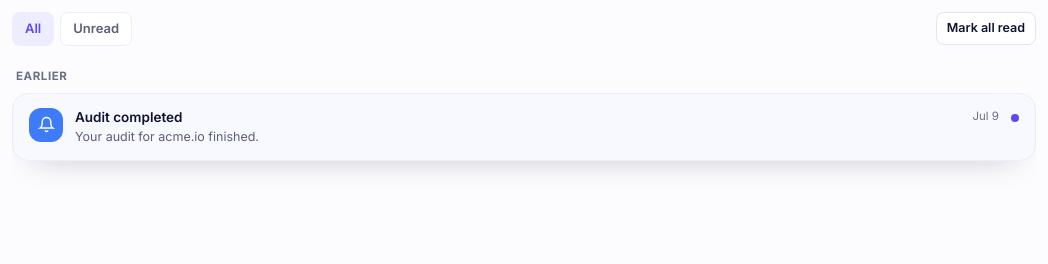
Test: NotificationsPage › filters to unread (empty) when the Unread tab is selected
Expected: the text "Audit completed" is shown, [75,109,182,125]
Click the button "Unread".
click(96, 29)  # box [60,12,132,46]
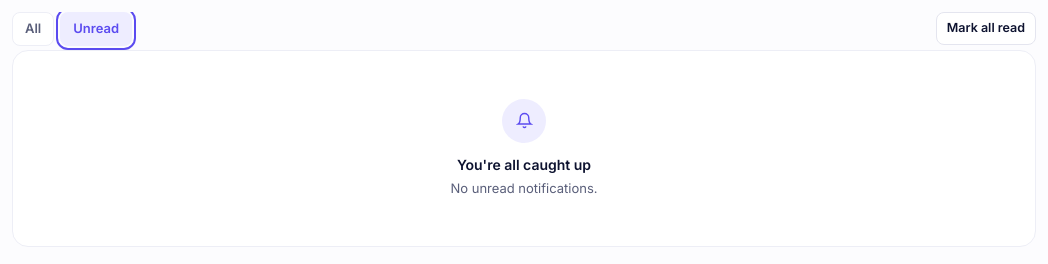
Now the text "No unread notifications." is shown, box [450,180,598,196]
